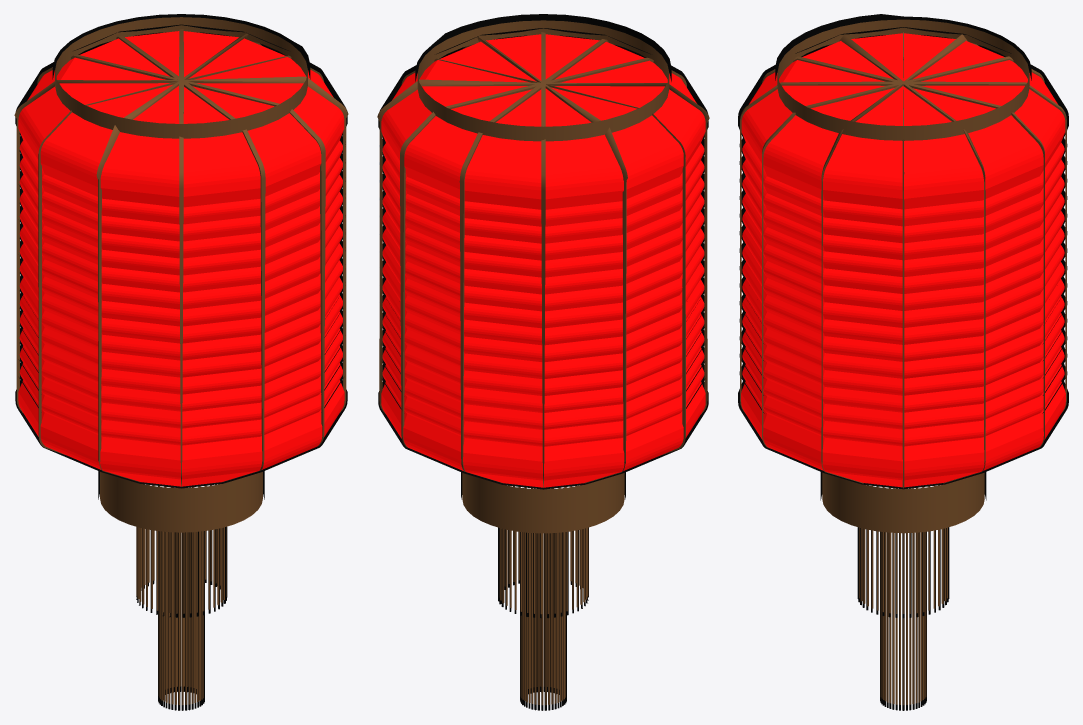
Rendered from Linterna_1.fbx.
3 renders of one model, left to right at view 1: azimuth 30°, elevation 25°; view 2: azimuth 150°, elevation 25°; view 3: azimuth 270°, elevation 25°, orthographic.
Visible parts, largest first — view 1: Linterna_China, LineArt; view 2: Linterna_China, LineArt; view 3: Linterna_China, LineArt.
Boxes of the visible parts, x1,y1,x2,y2 form: Linterna_China: [14, 17, 348, 705]; LineArt: [15, 14, 347, 710]; Linterna_China: [377, 20, 709, 705]; LineArt: [378, 14, 708, 710]; Linterna_China: [740, 19, 1066, 705]; LineArt: [738, 14, 1068, 710].
Bounding box in the file's own units: 2.03 × 4.3 × 2.03.
